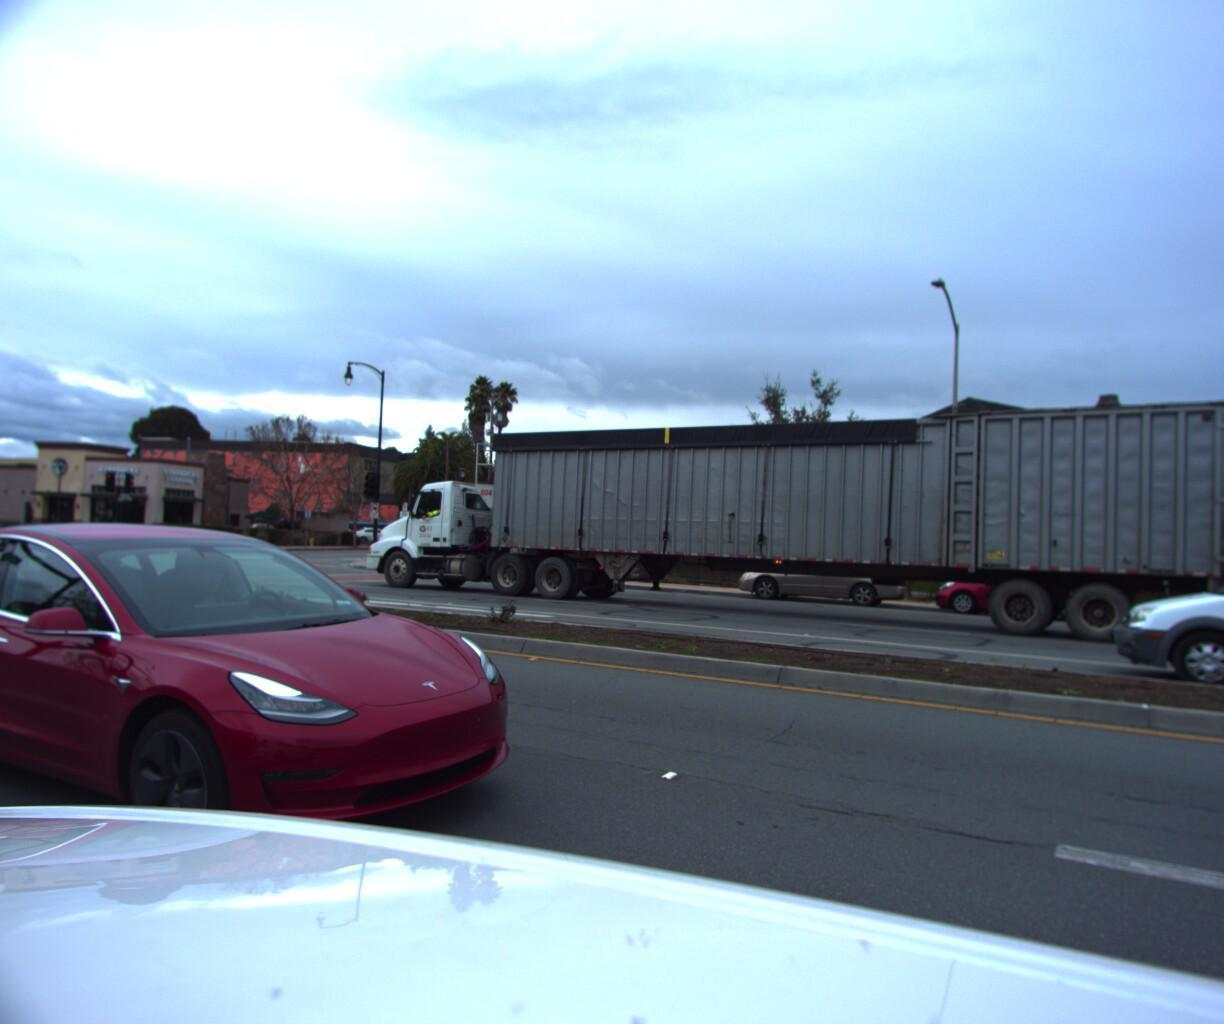car: (0, 509, 577, 951), (1125, 472, 1224, 747), (921, 553, 1121, 628), (720, 546, 911, 612), (0, 514, 28, 556), (342, 526, 396, 546)
truck: (336, 379, 1224, 664)
